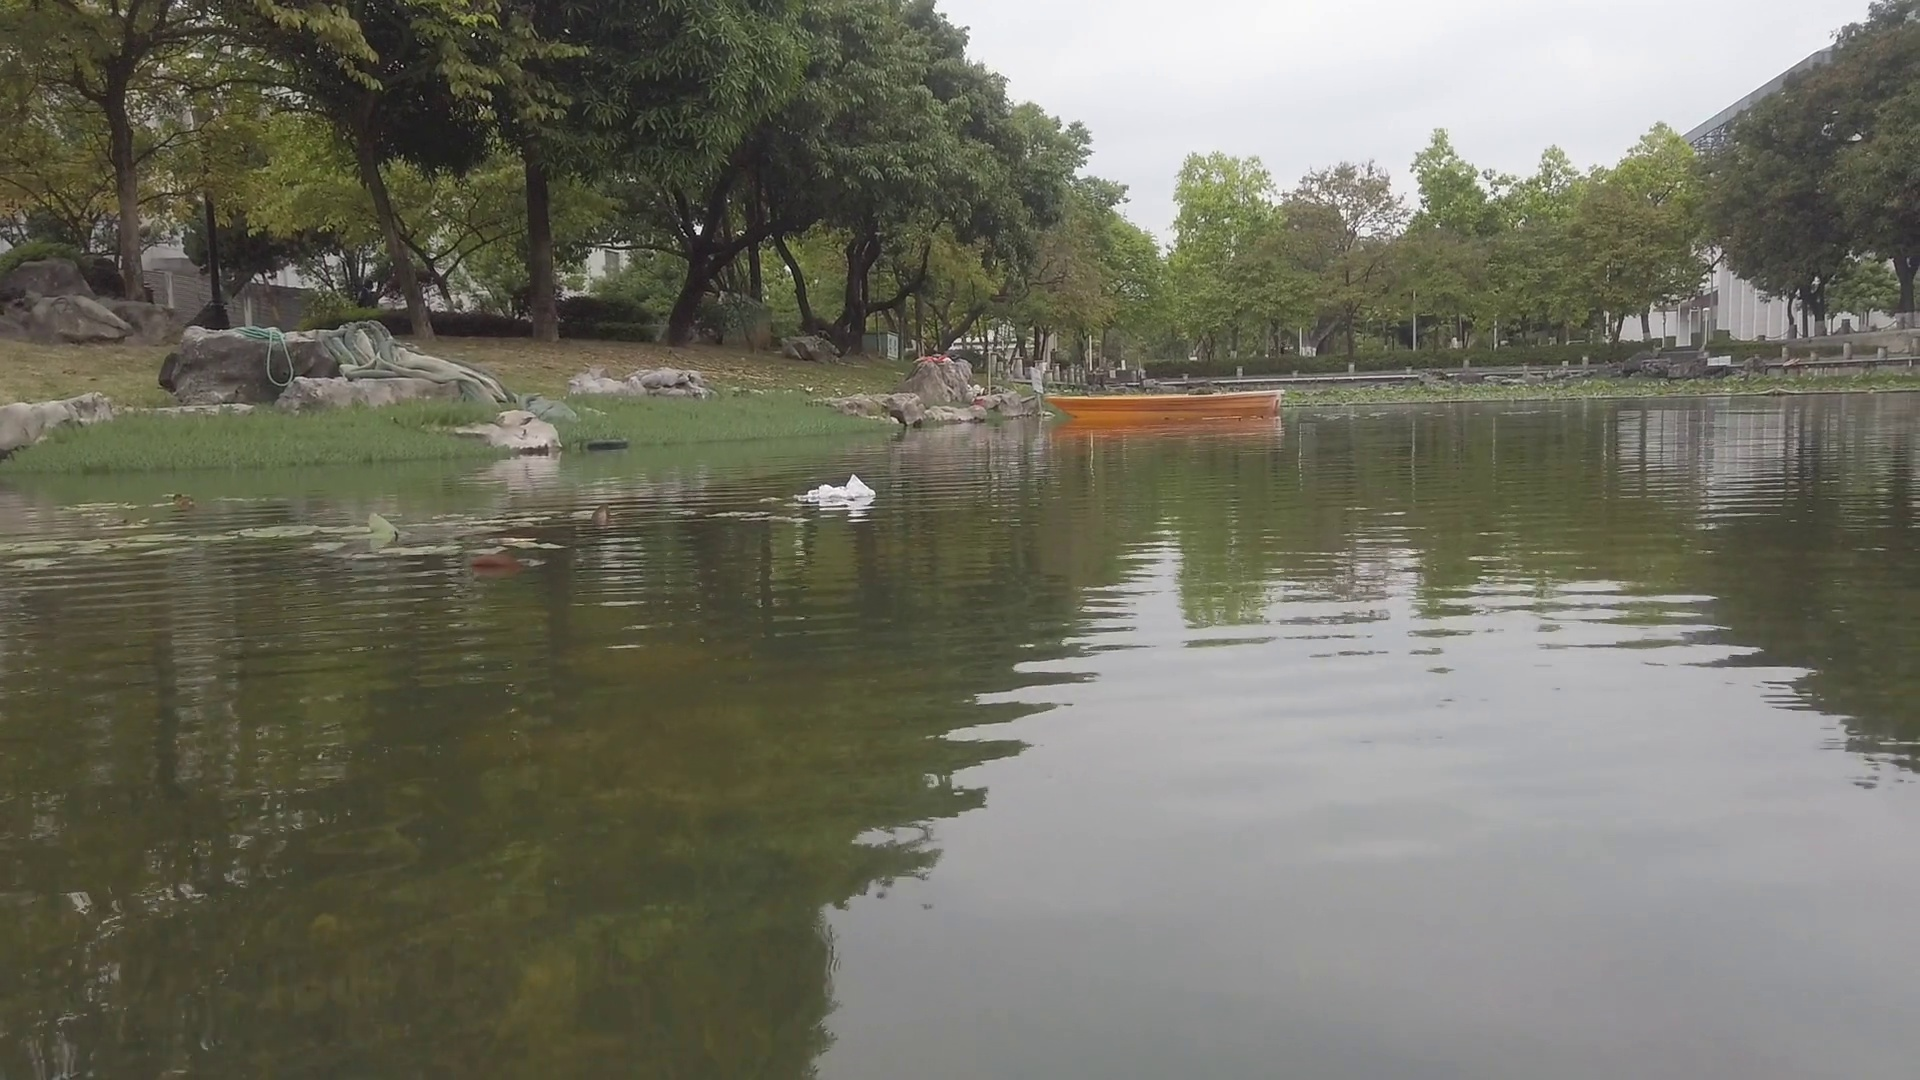plastic: (800, 476, 876, 506)
